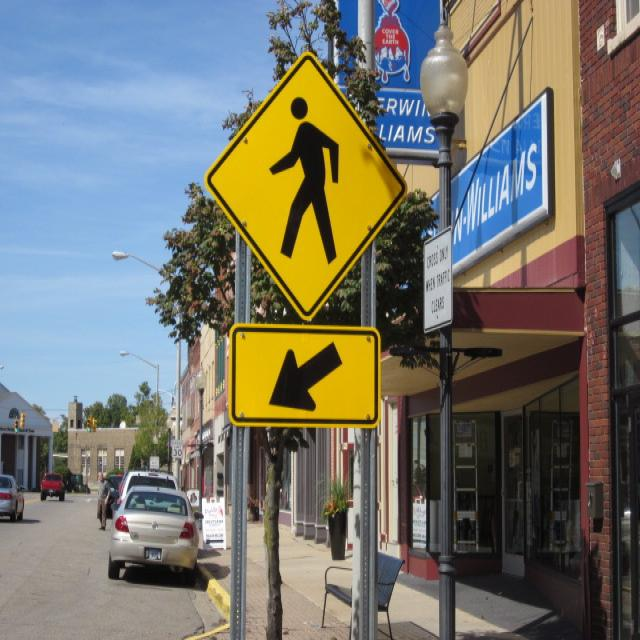warning: (207, 48, 409, 320), (226, 326, 382, 429)
